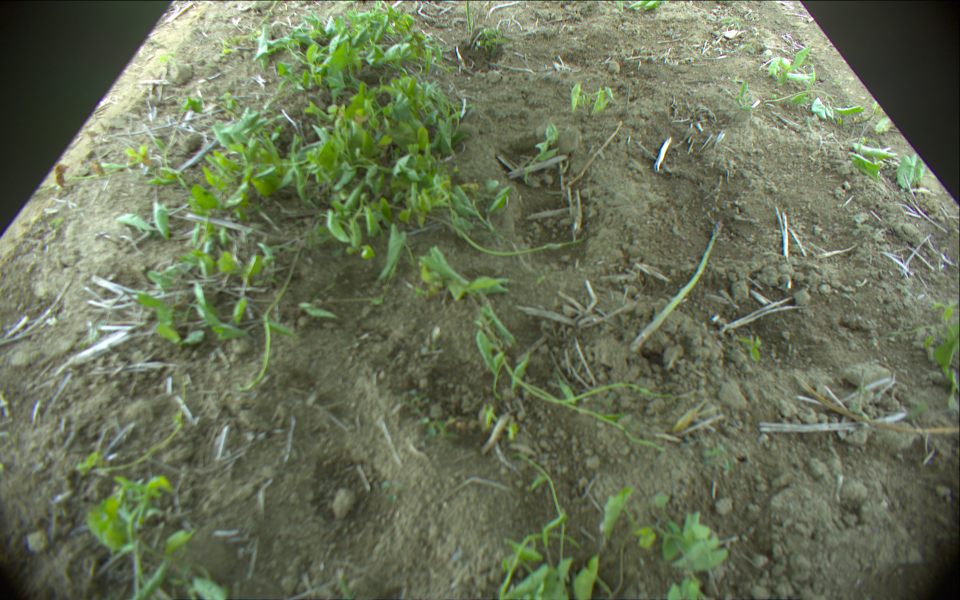aspa: (630, 217, 726, 353)
